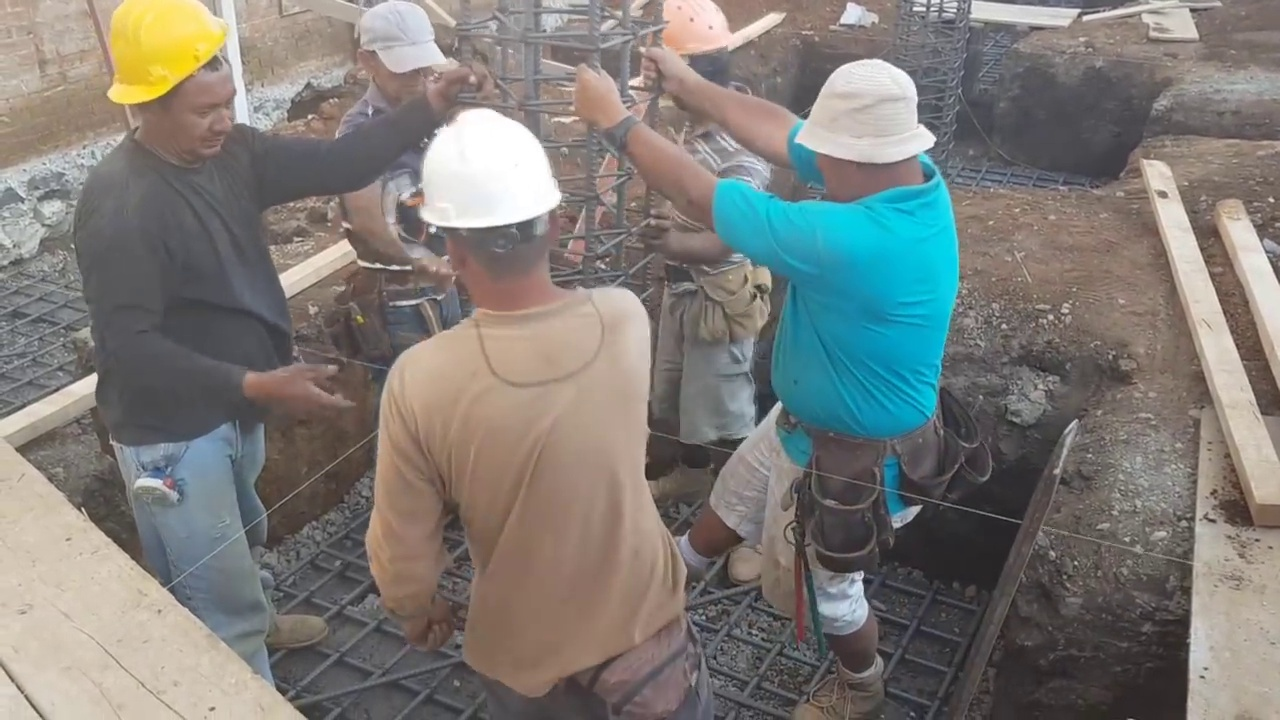helmet: (412, 104, 570, 245), (95, 6, 229, 107), (650, 2, 740, 62)
helmet-off: (771, 63, 937, 206), (347, 0, 462, 115)
helmet-on: (414, 97, 567, 325), (87, 2, 242, 177), (644, 4, 750, 130)
person: (581, 43, 965, 709), (61, 15, 405, 688), (363, 93, 694, 720), (642, 9, 777, 513), (320, 11, 474, 398)
